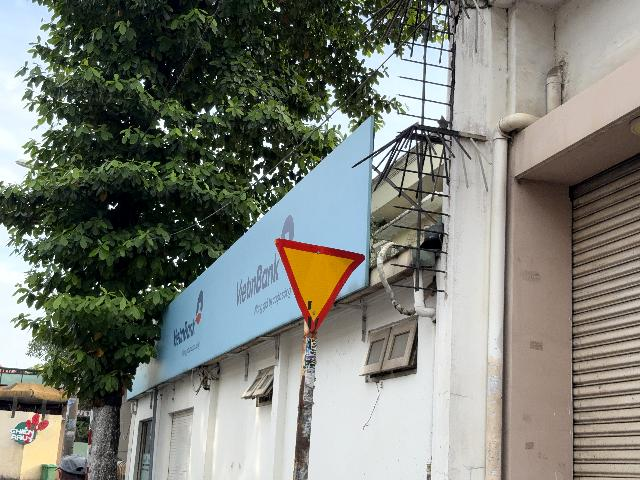giao-nhau-voi-duong-uu-tien: (275, 237, 367, 334)
